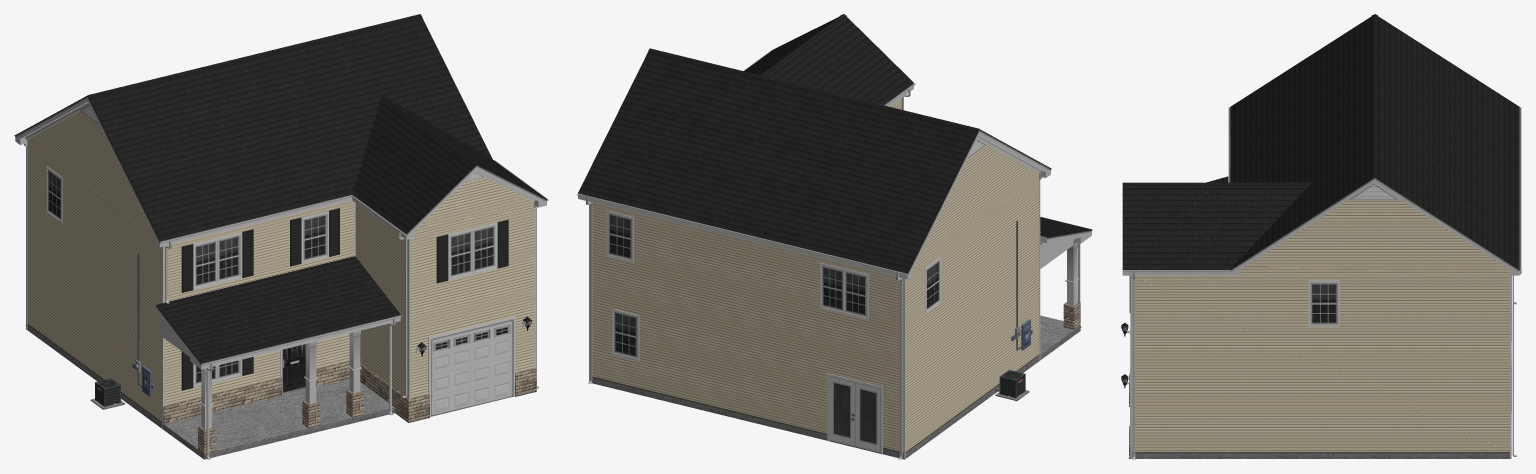
File: house2_mirror2.fbx
3 views of the same model, side by side, from view 1: azimuth 30°, elevation 25°; view 2: azimuth 150°, elevation 25°; view 3: azimuth 270°, elevation 25° (orthographic).
Visible parts, largest first — view 1: house2_mirror2_LOD0; view 2: house2_mirror2_LOD0; view 3: house2_mirror2_LOD0.
Part boxes in pixels (bbox=[...]): house2_mirror2_LOD0: bbox=[14, 14, 548, 459]; house2_mirror2_LOD0: bbox=[577, 14, 1092, 459]; house2_mirror2_LOD0: bbox=[1121, 14, 1521, 459].
Size of what is drawn, in the model's own units: 3.21 by 2.49 by 3.15.
